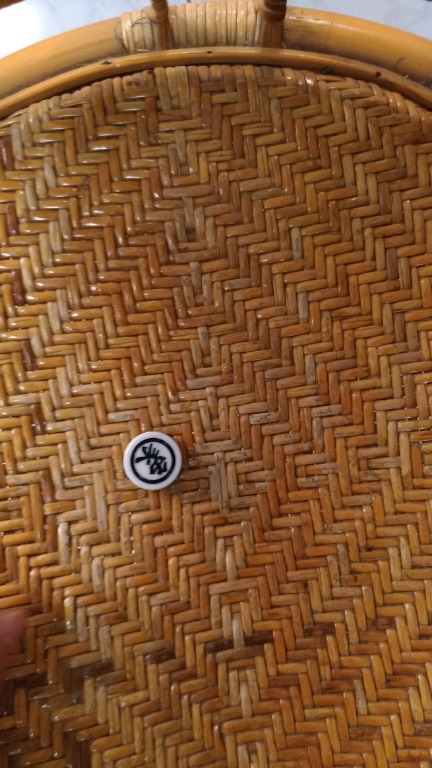b-elephant: (118, 424, 195, 498)
